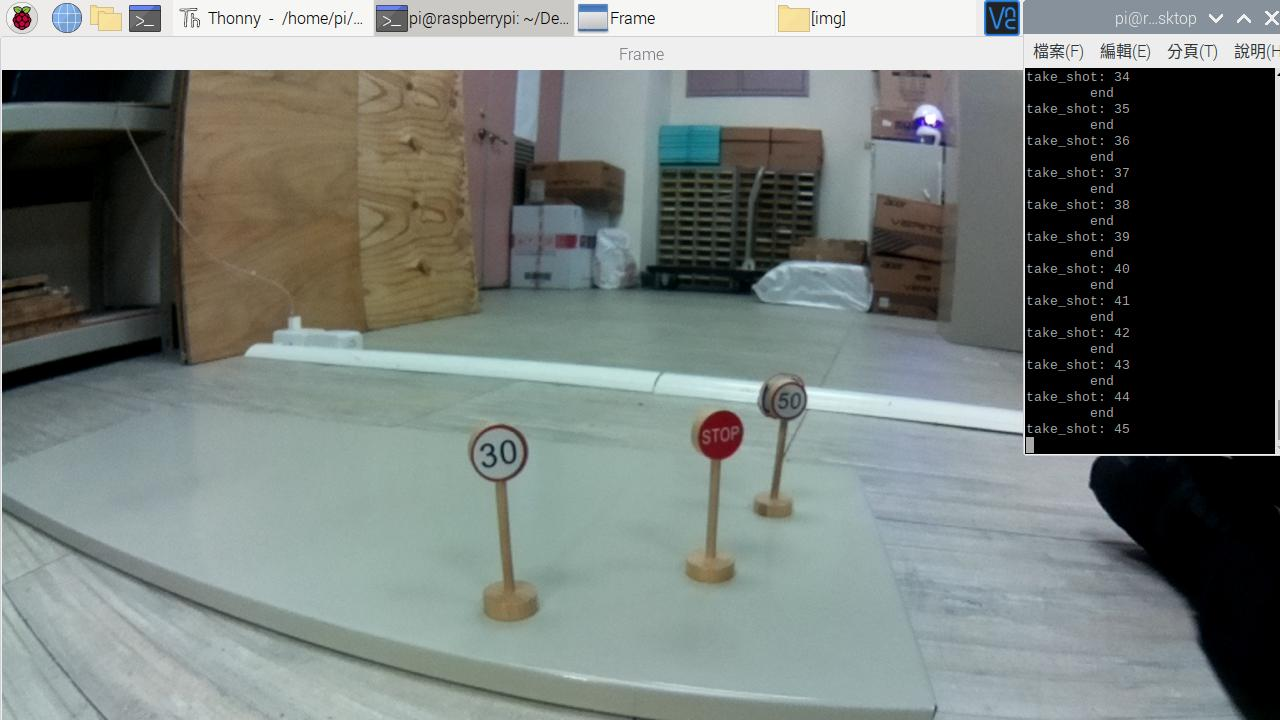Speed30: (470, 427, 532, 483)
Speed50: (768, 377, 812, 421)
Stop: (692, 414, 746, 459)
